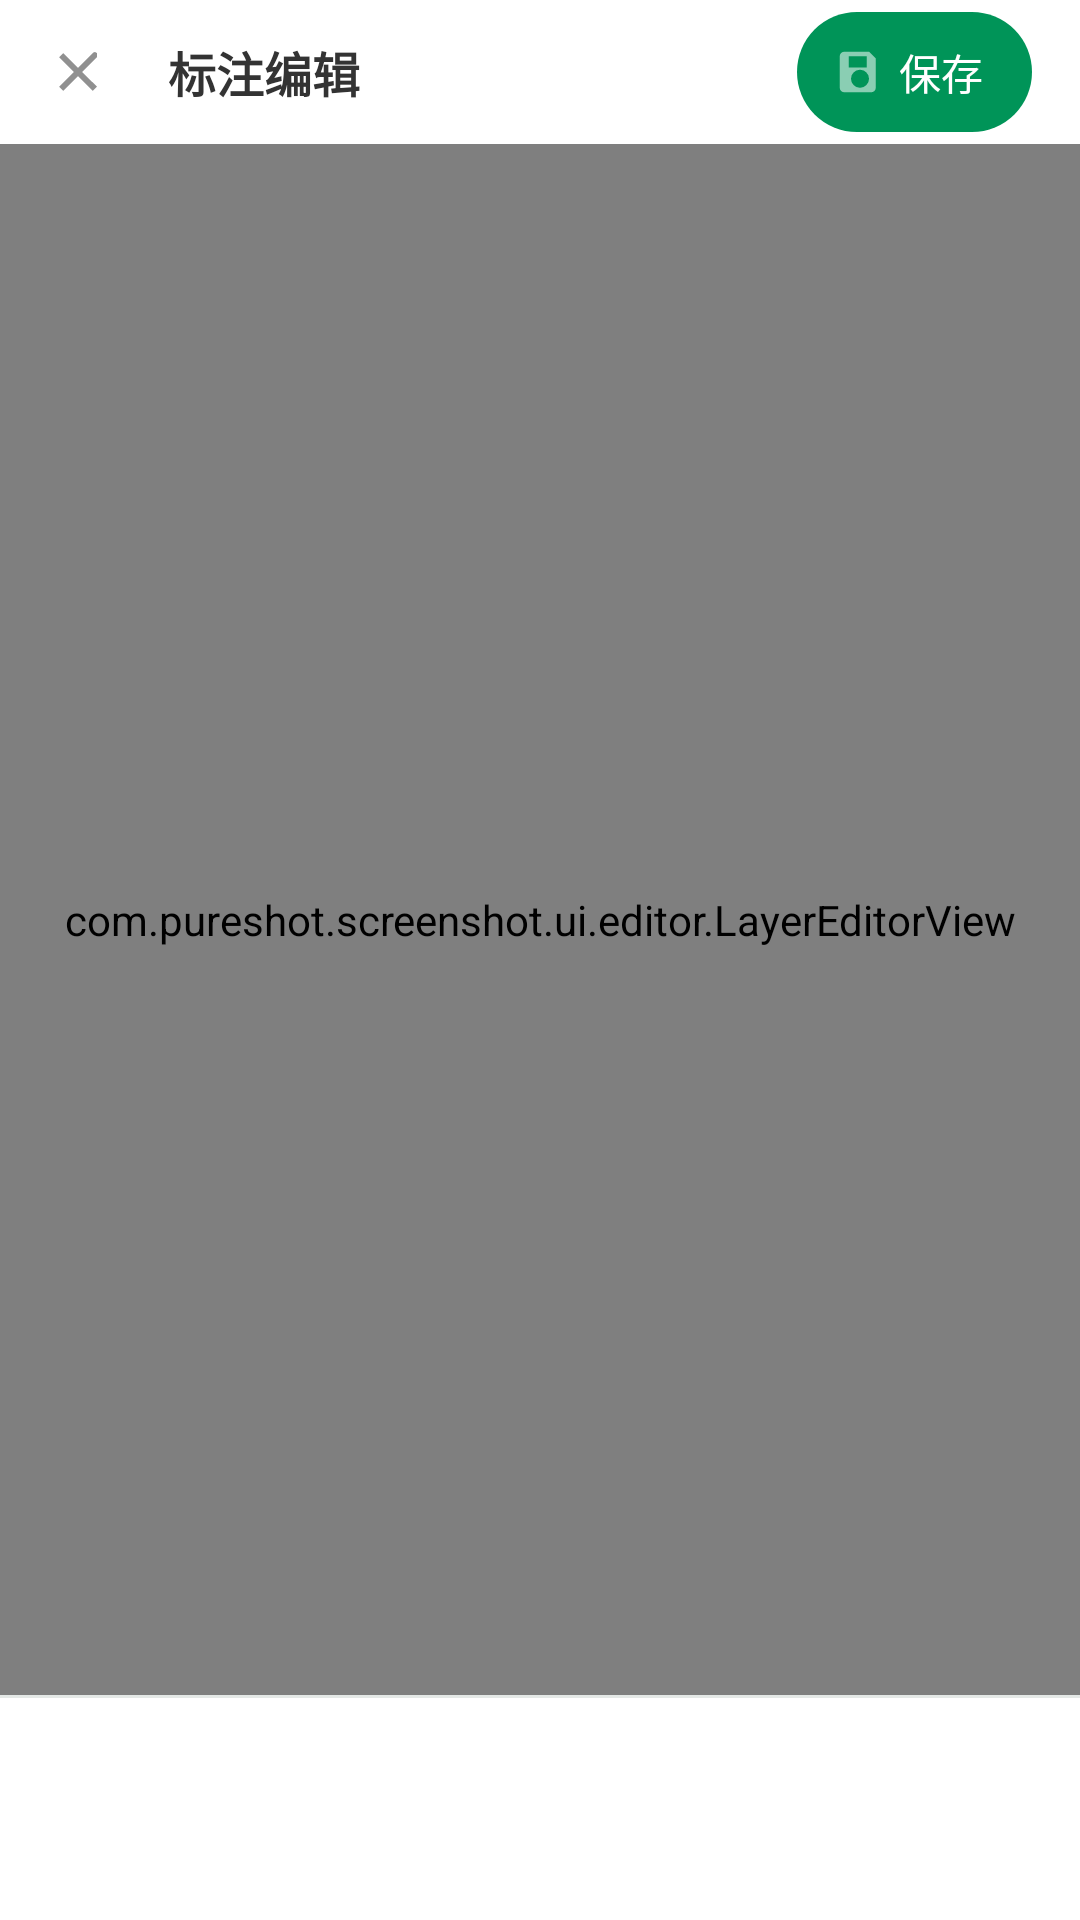

Icons on this 1080px×1920px Android screen, each with its box as detection(x1, y1, x2, y2):
关闭: detection(59, 52, 97, 91)
